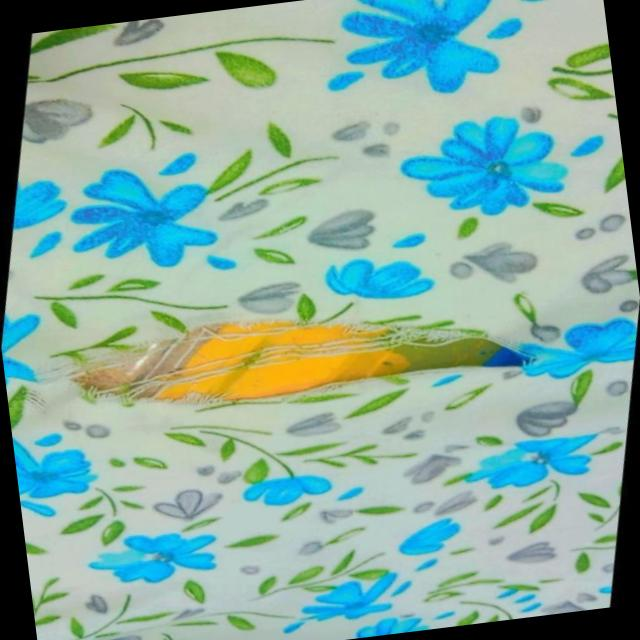cut: (27, 252, 570, 462)
